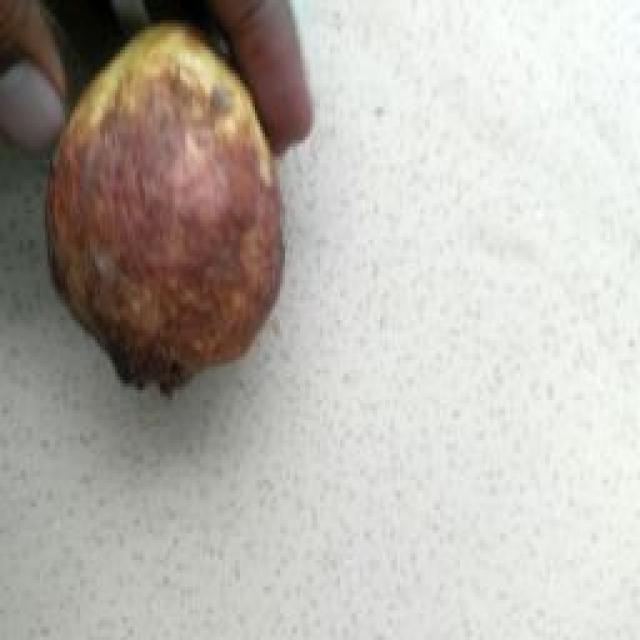Bad_Guava: (46, 23, 281, 389)
